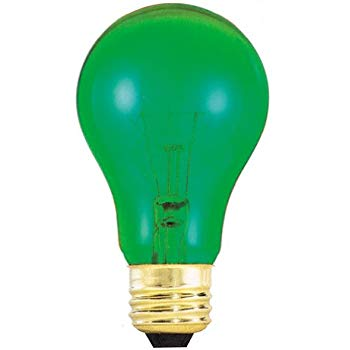Nonrec_Glass: (66, 3, 283, 341)
